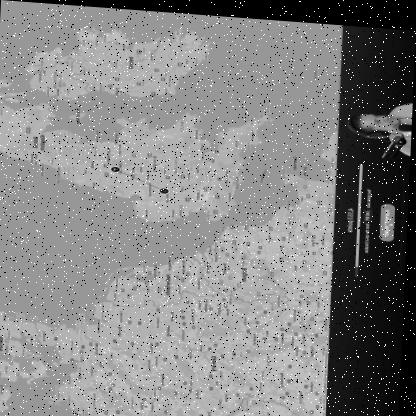streamer: (345, 90, 414, 153)
